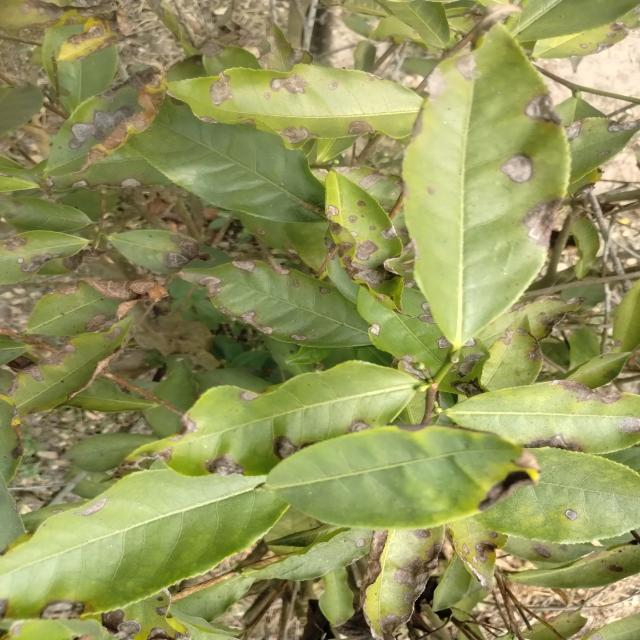Leaf: (403, 24, 570, 348), (0, 463, 289, 619), (125, 361, 418, 476), (265, 426, 538, 529), (130, 97, 324, 223), (169, 64, 421, 138), (480, 448, 640, 543), (200, 261, 370, 348), (444, 380, 640, 454), (45, 67, 166, 181), (9, 318, 132, 414), (325, 170, 403, 309), (362, 525, 445, 640), (25, 279, 168, 336), (357, 287, 449, 372), (42, 17, 118, 112), (244, 528, 372, 581), (510, 543, 640, 588), (49, 143, 170, 191), (565, 118, 640, 194), (478, 296, 584, 348), (510, 0, 640, 41), (533, 10, 640, 58), (480, 313, 542, 391), (0, 231, 88, 285), (102, 588, 191, 640), (450, 518, 507, 591), (108, 230, 200, 273), (64, 433, 157, 472), (178, 575, 254, 620), (61, 378, 158, 413), (380, 0, 450, 48), (0, 197, 91, 232), (151, 355, 198, 412), (563, 352, 631, 389), (432, 553, 475, 611), (281, 221, 328, 269), (0, 84, 43, 136), (319, 567, 354, 628), (0, 394, 23, 483), (613, 279, 640, 351), (203, 44, 262, 76), (0, 620, 77, 640), (0, 155, 37, 192), (569, 326, 599, 369), (548, 611, 587, 640), (144, 407, 181, 437), (523, 624, 558, 640), (156, 605, 168, 616)
